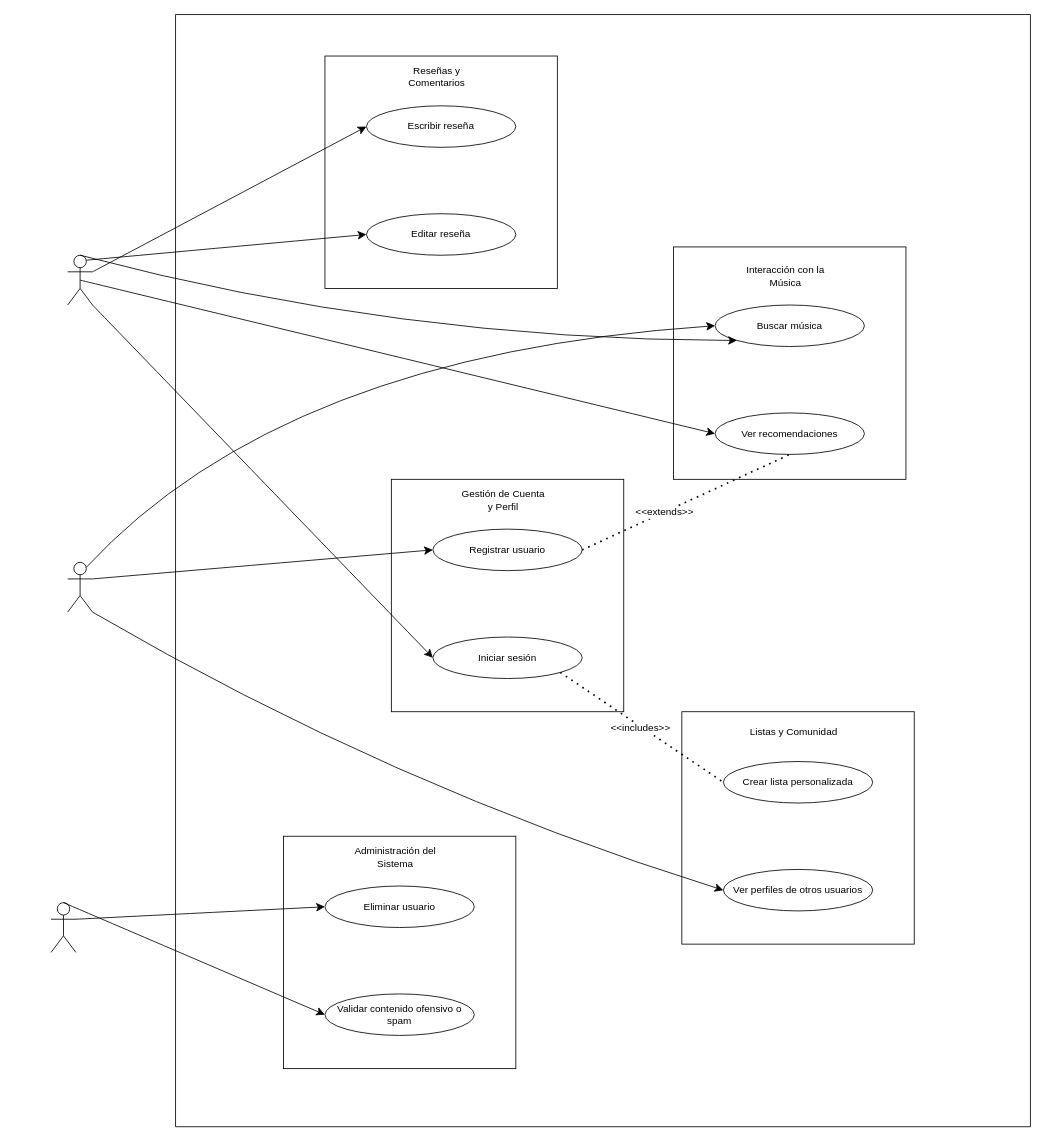
This 1045x1141 diagram has some shape labels left out. The centre of each missing label's shape, as x and y in pixels:
Usuario administrativo: point 63,927
usuario no registrado: point 80,586
usuario registrado: point 80,279
